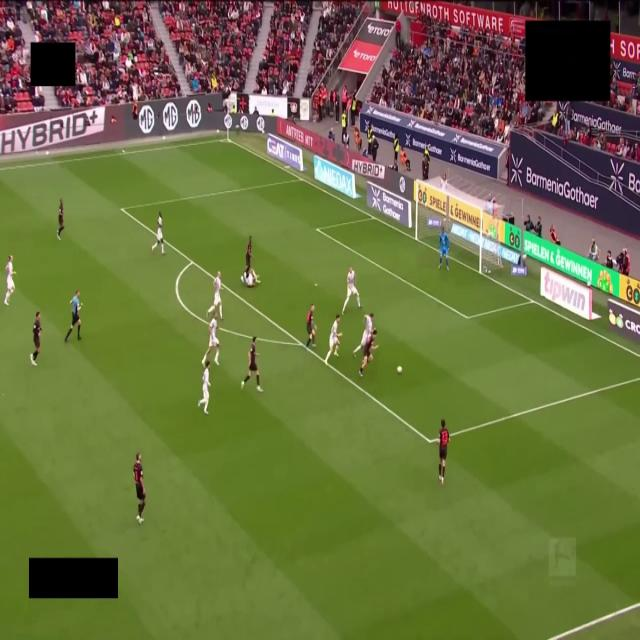ball: (397, 366, 402, 374)
player: (241, 336, 262, 391), (202, 311, 219, 367), (353, 313, 373, 357), (342, 268, 361, 314), (133, 452, 145, 524), (359, 329, 377, 376), (325, 315, 342, 364), (207, 272, 222, 321), (198, 360, 210, 415), (439, 419, 449, 485), (31, 312, 42, 366), (4, 256, 15, 305), (152, 212, 164, 255), (241, 236, 251, 282), (439, 227, 449, 270), (306, 304, 315, 348), (244, 268, 260, 288), (57, 199, 64, 240)
referee: (65, 290, 81, 342)
